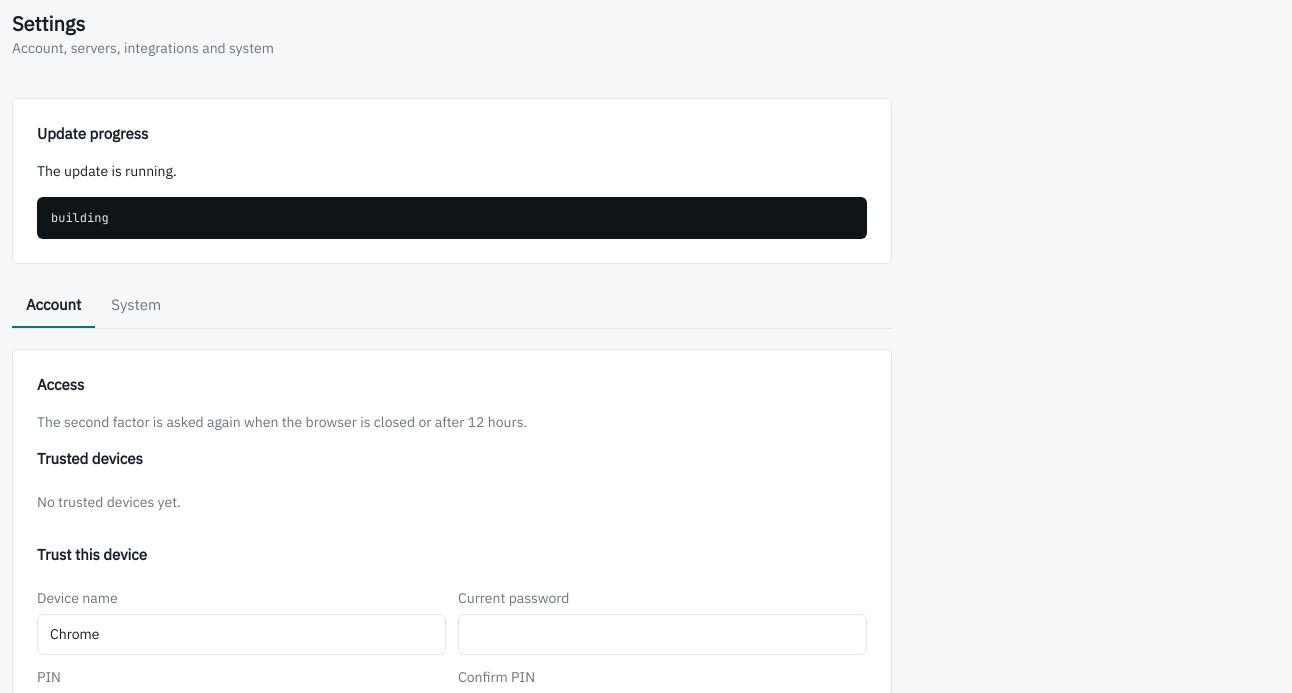
Test case: SettingsTabs › keeps the update progress above the tabs whatever tab is selected
This screenshot has width=1292, height=693.
expect the element "Update progress" is shown: met, box [12, 98, 892, 264]
expect the heading "Access" is shown: met, box [37, 375, 84, 394]
Click the tab "System" at (136, 305), box [111, 295, 161, 314]
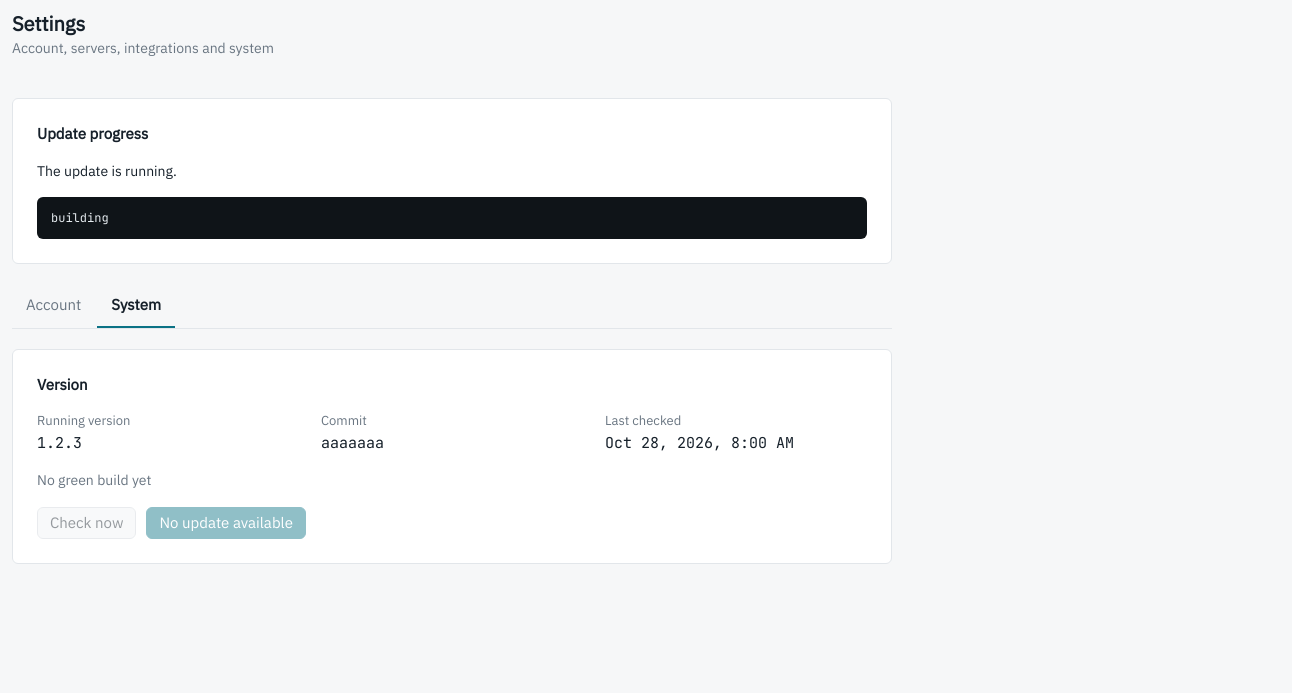
expect the heading "Update progress" is shown: met, box [37, 124, 148, 143]
expect the heading "Version" is shown: met, box [37, 375, 87, 394]
